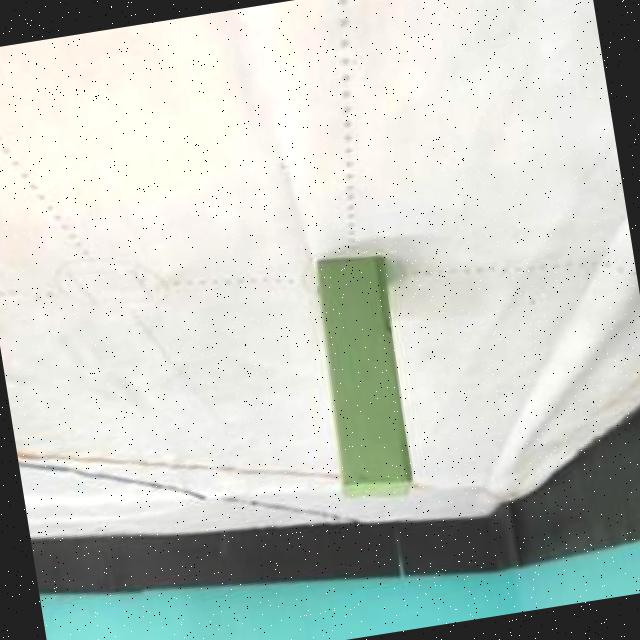greenbox: (298, 248, 424, 511)
